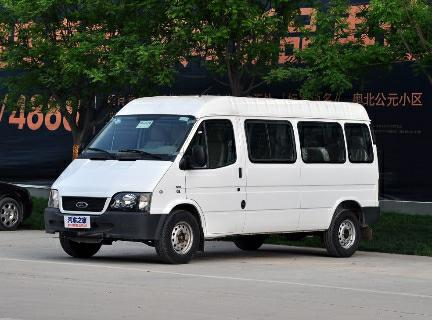福特-经典全顺: (43, 82, 382, 267)
